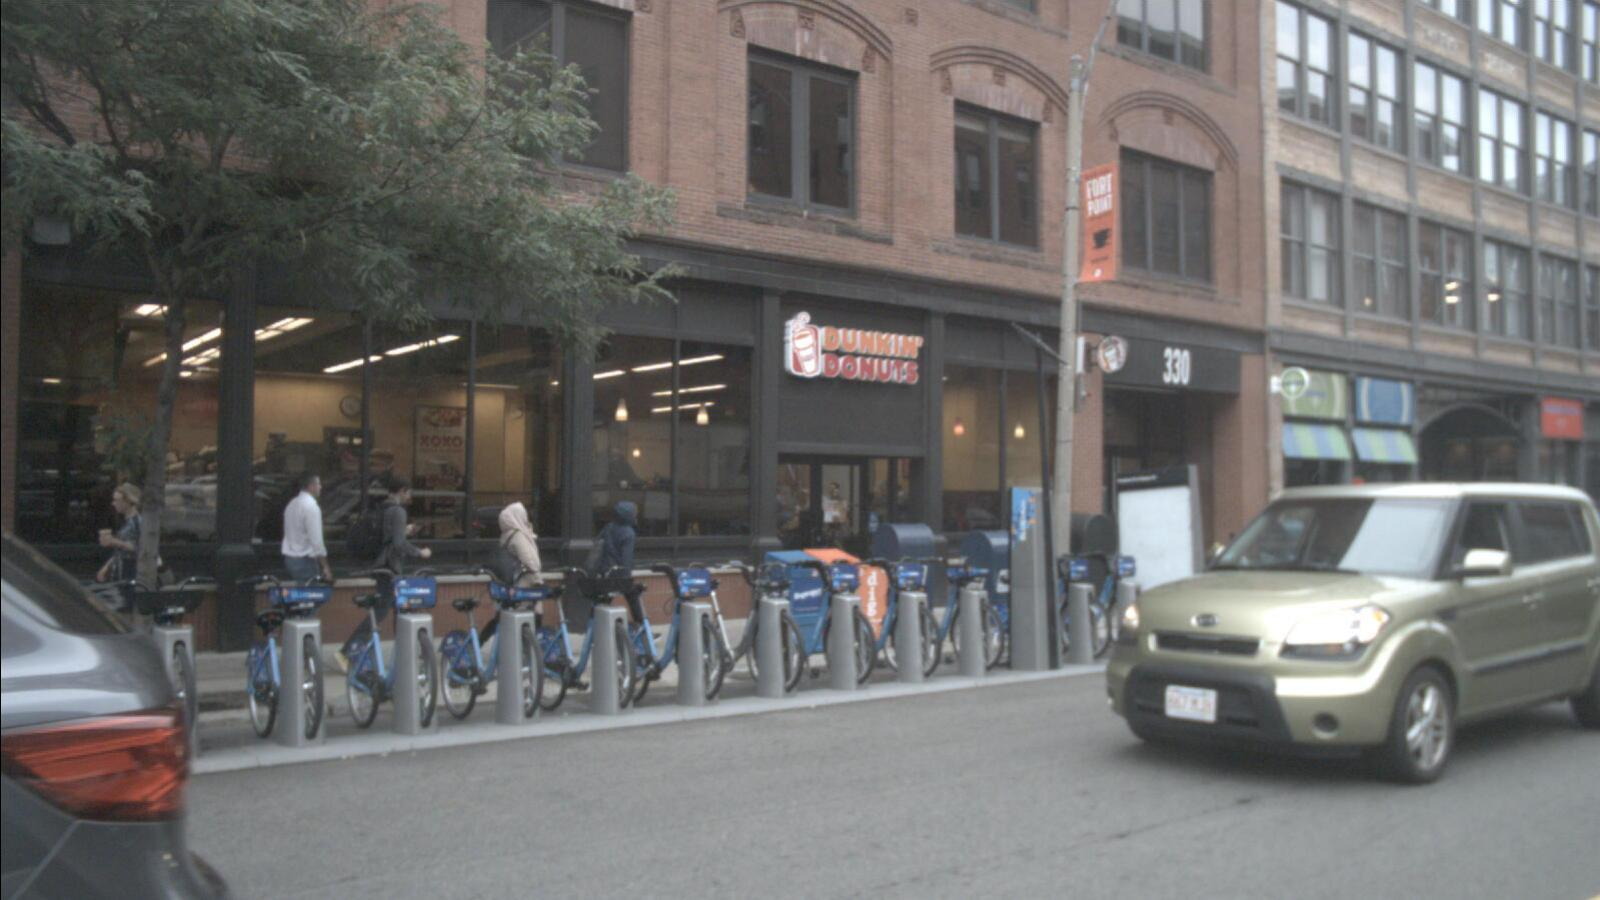human.pedestrian.adult-pedestrian.moving: (331, 474, 431, 678), (94, 481, 163, 682), (469, 500, 545, 673), (278, 468, 337, 676), (587, 501, 664, 653)
